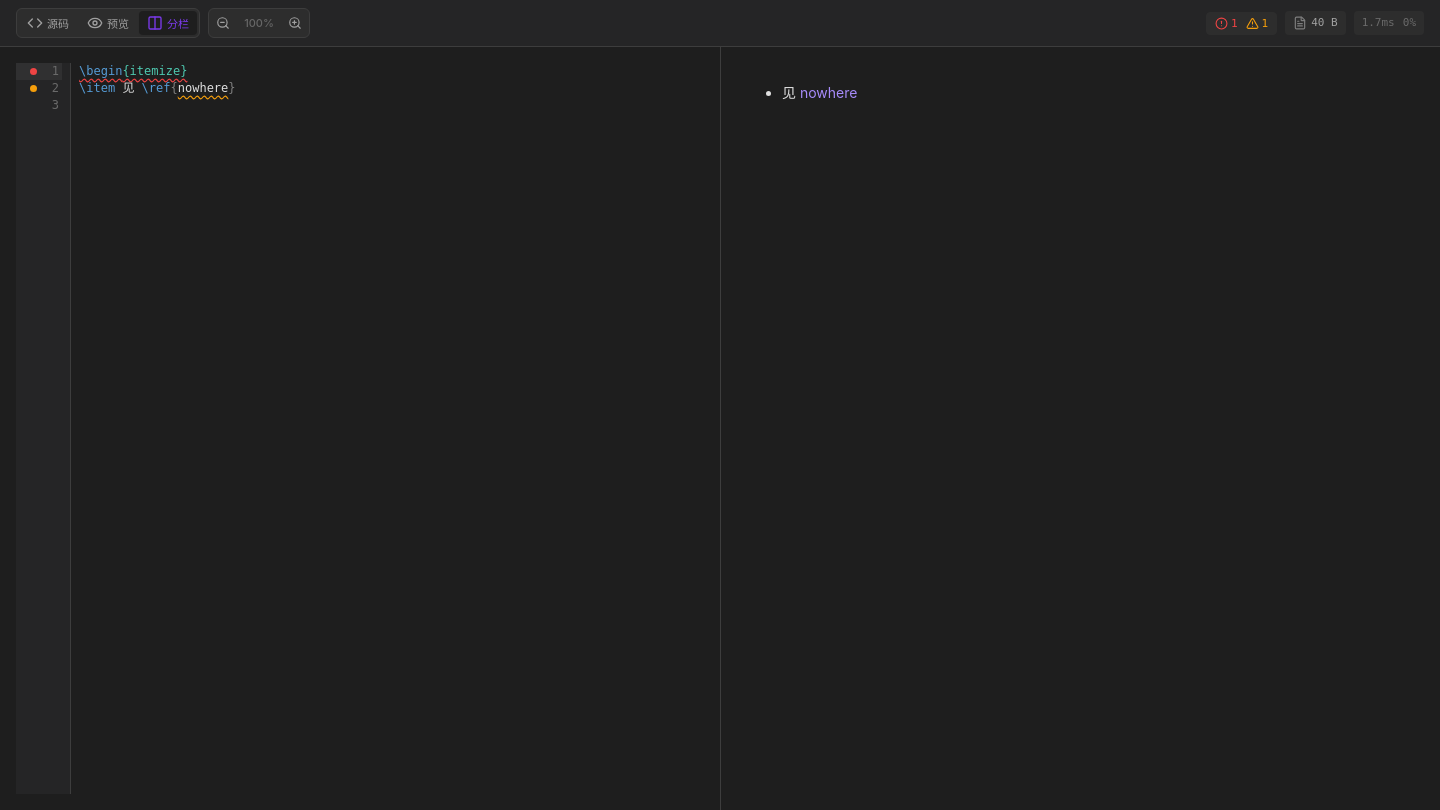
Scenario: LatexEditor › 语法错误与交叉引用问题显示在头部计数与诊断面板中
Expected: the text box with class "cm-lintRange-error" reads "\\begin{itemize}", [79, 64, 187, 78]
Expected: the text box with class "cm-lintRange-warning" reads "nowhere", [178, 81, 228, 95]
Click the button named "诊断：1 个错误，1 个警告" at coordinates (1242, 23), box [1206, 12, 1277, 34]
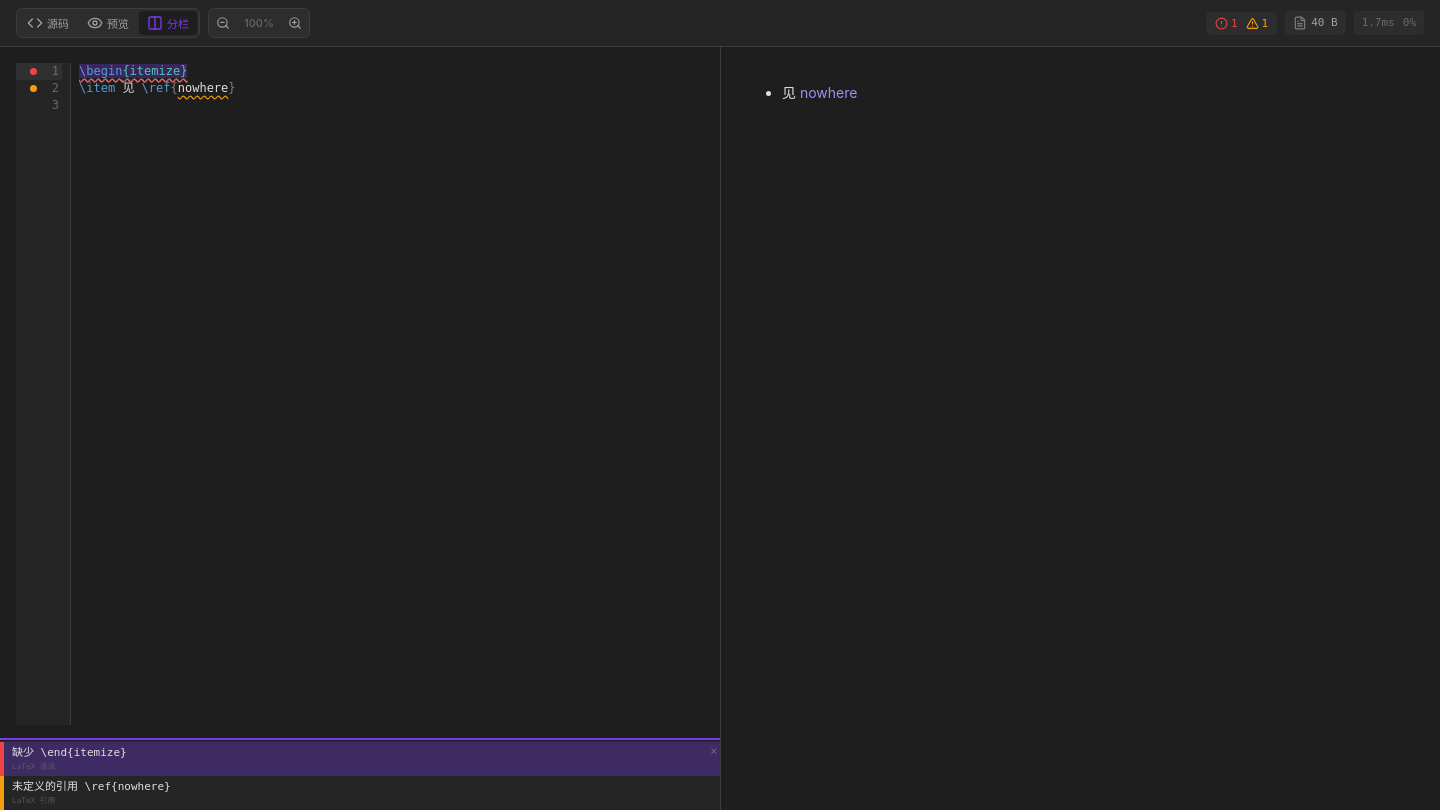
Expected: the element with class "cm-panel-lint" shows "缺少 \\end{itemize}", [12, 746, 127, 759]
Expected: the element with class "cm-panel-lint" shows "未定义的引用 \\ref{nowhere}", [12, 780, 171, 793]
